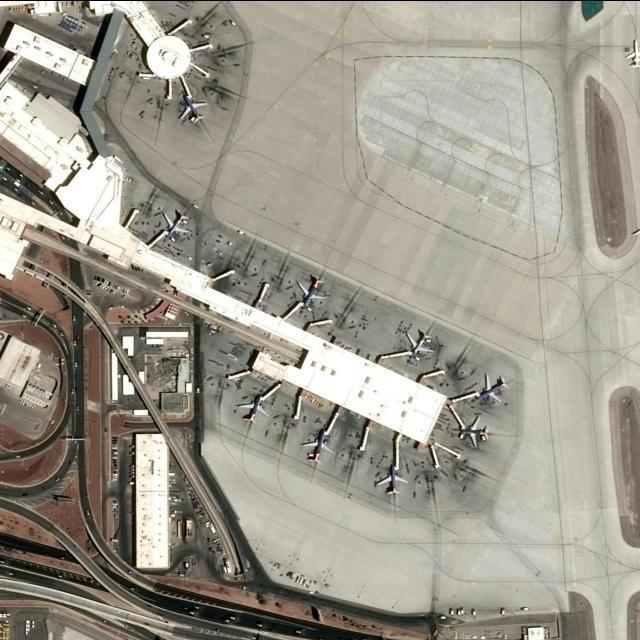Aircraft: (376, 462, 408, 496), (301, 428, 333, 462), (296, 274, 328, 307), (474, 371, 508, 402), (460, 415, 489, 447), (238, 393, 268, 423), (177, 93, 207, 123), (404, 328, 434, 357), (161, 208, 190, 236)
